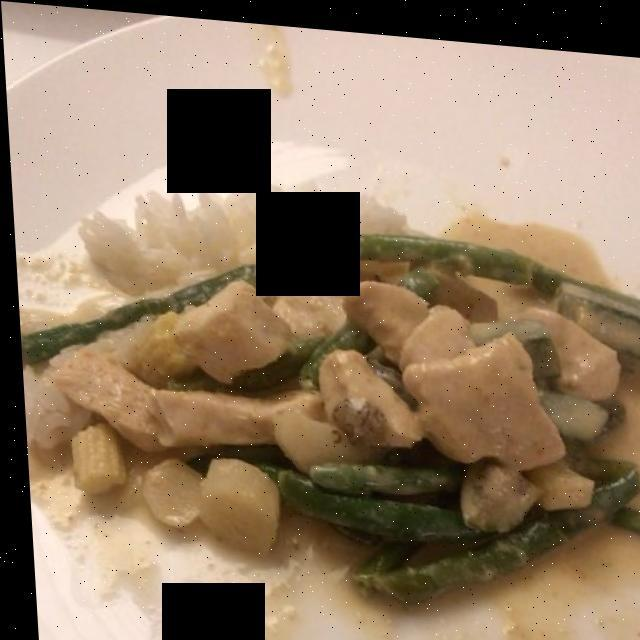chicken: (151, 257, 623, 461)
curry-vegetarian: (17, 228, 640, 606)
rice: (62, 182, 397, 323)
